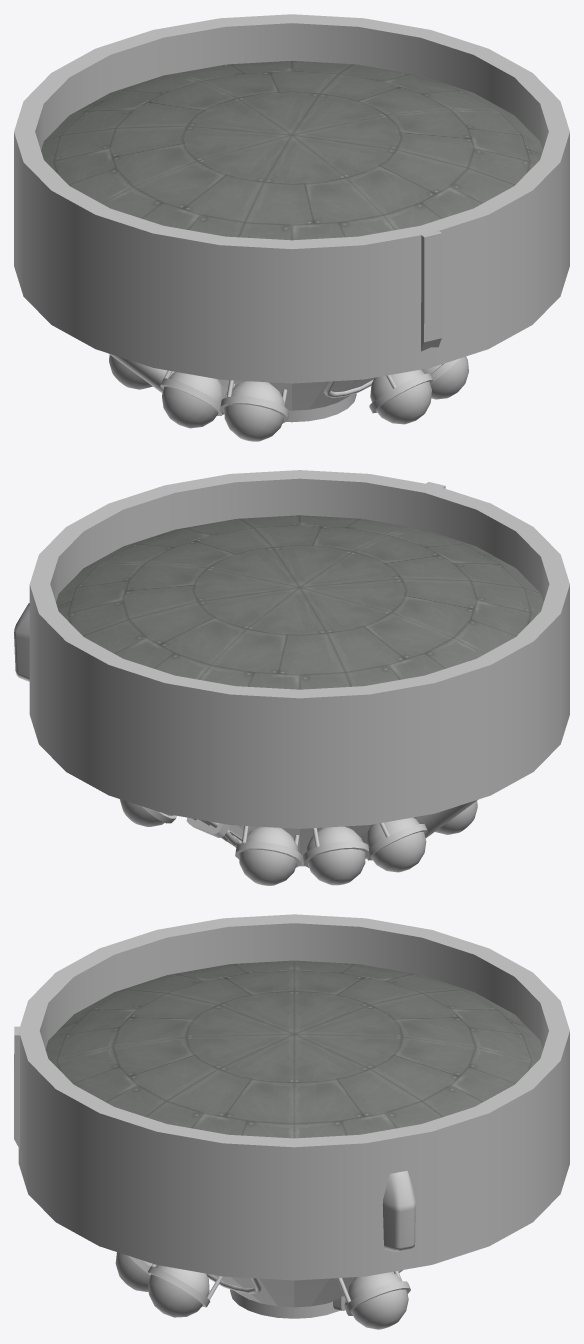
Rendered from Saturn_S4B_EngineMount.dae.
3 views of the same model, one above another, from view 1: azimuth 30°, elevation 25°; view 2: azimuth 150°, elevation 25°; view 3: azimuth 270°, elevation 25° (orthographic). The views are drawn at different scales.
Parts seen in each view (by area): view 1: S4B_EngineMount_Merged_extrudedSurface85, S4B_EngineMount_Merged_TankTopper3; view 2: S4B_EngineMount_Merged_extrudedSurface85, S4B_EngineMount_Merged_TankTopper3; view 3: S4B_EngineMount_Merged_extrudedSurface85, S4B_EngineMount_Merged_TankTopper3.
Part boxes in pixels (x1,y1,x2,y2): S4B_EngineMount_Merged_extrudedSurface85: [14, 14, 569, 441]; S4B_EngineMount_Merged_TankTopper3: [41, 61, 542, 240]; S4B_EngineMount_Merged_extrudedSurface85: [14, 470, 569, 885]; S4B_EngineMount_Merged_TankTopper3: [56, 515, 543, 689]; S4B_EngineMount_Merged_extrudedSurface85: [14, 914, 569, 1329]; S4B_EngineMount_Merged_TankTopper3: [45, 960, 543, 1138].
Size of what is drawn, in the model's own units: 3.75 by 1.96 by 3.78.
